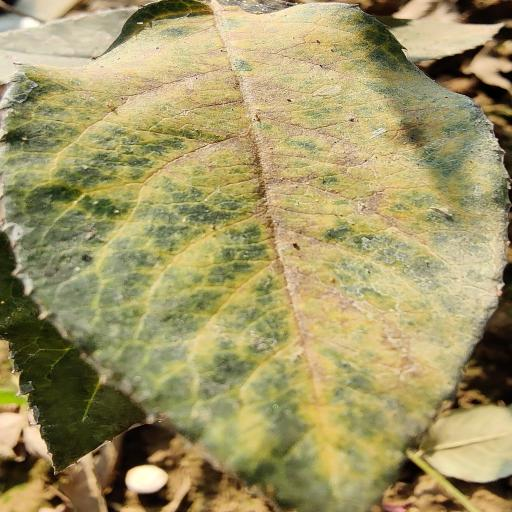red_mite: (2, 0, 507, 512)
